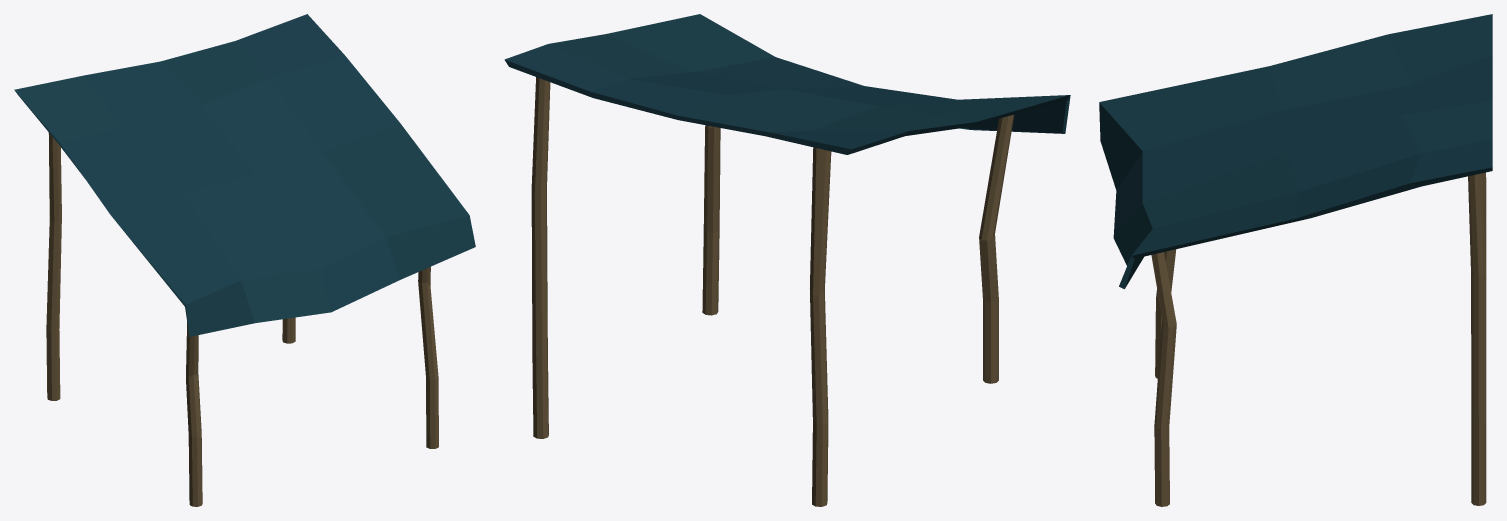
Rendered from roman_canopy_standing_slanted.fbx.
The picture shows the model from 3 angles, left to right: view 1: azimuth 30°, elevation 25°; view 2: azimuth 150°, elevation 25°; view 3: azimuth 270°, elevation 25°; orthographic projection. The views are drawn at different scales.
Parts seen in each view (by area): view 1: Cylinder.007, Cylinder.006, Cylinder.017; view 2: Cylinder.007, Cylinder.017, Cylinder.006; view 3: Cylinder.007, Cylinder.017, Cylinder.006.
Boxes of the visible parts, x1,y1,x2,y2 form: Cylinder.007: (14, 14, 475, 336); Cylinder.006: (186, 266, 438, 506); Cylinder.017: (46, 132, 295, 400); Cylinder.007: (504, 14, 1070, 154); Cylinder.017: (531, 77, 831, 506); Cylinder.006: (702, 115, 1014, 383); Cylinder.007: (1099, 14, 1492, 289); Cylinder.017: (1468, 172, 1486, 505); Cylinder.006: (1151, 249, 1176, 506).
Bounding box in the file's own units: 2.99 × 2.99 × 3.05.
